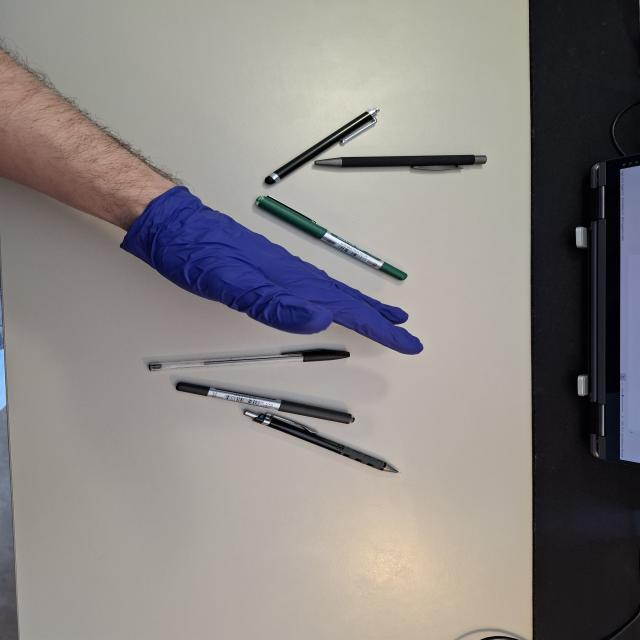glove_on: (115, 180, 427, 358)
